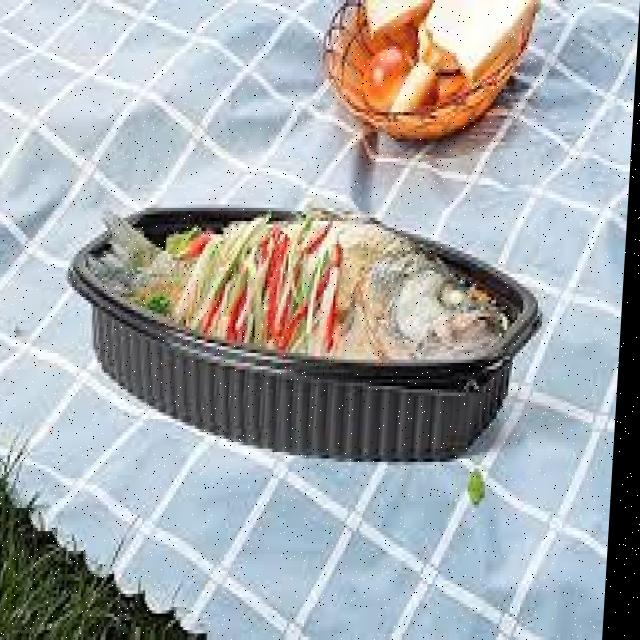disposable: (59, 159, 565, 486)
